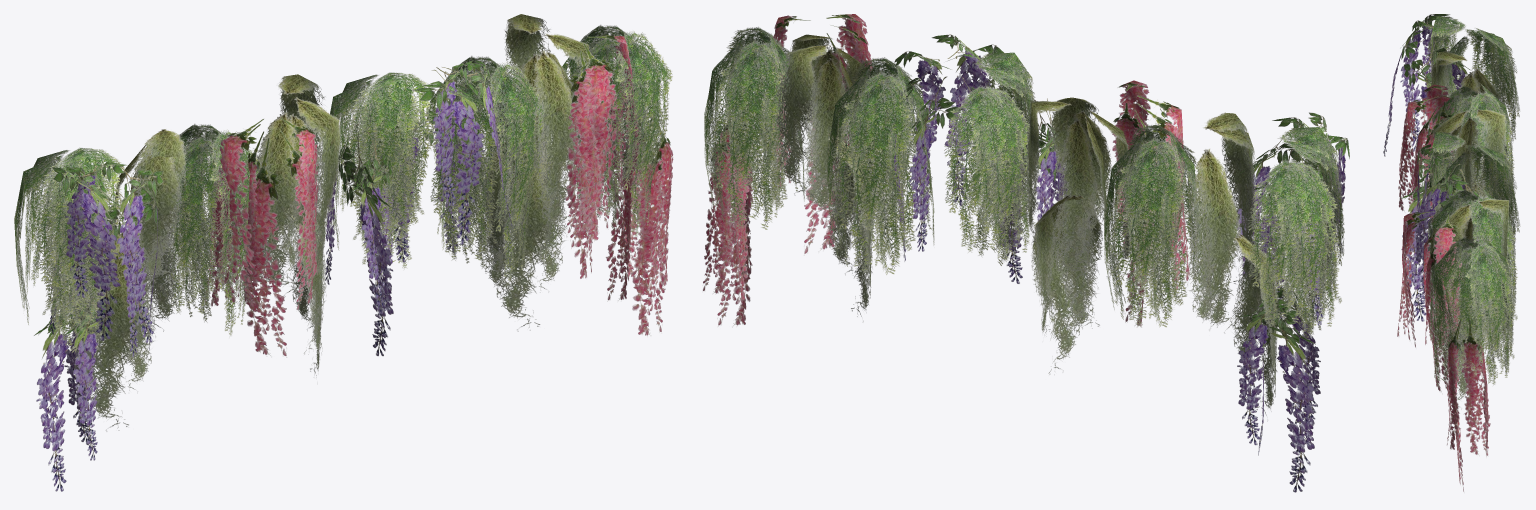
The model's file is hangingplants.glb.
3 views of the same model, side by side, from view 1: azimuth 30°, elevation 25°; view 2: azimuth 150°, elevation 25°; view 3: azimuth 270°, elevation 25° (orthographic). The views are drawn at different scales.
Visible parts, largest first — view 1: Mesh4_rambatan_atas_fullGeometry_daun_rambat_Mat_0, Mesh3_rambatan_atas_fullGeometry_nabi_Mat_0, Mesh1_rambatan_atas_fullGeometry_wispink_Mat_0, Mesh2_rambatan_atas_fullGeometry_wisteria_ungu_Mat_0; view 2: Mesh4_rambatan_atas_fullGeometry_daun_rambat_Mat_0, Mesh3_rambatan_atas_fullGeometry_nabi_Mat_0, Mesh2_rambatan_atas_fullGeometry_wisteria_ungu_Mat_0, Mesh1_rambatan_atas_fullGeometry_wispink_Mat_0; view 3: Mesh4_rambatan_atas_fullGeometry_daun_rambat_Mat_0, Mesh1_rambatan_atas_fullGeometry_wispink_Mat_0, Mesh2_rambatan_atas_fullGeometry_wisteria_ungu_Mat_0, Mesh3_rambatan_atas_fullGeometry_nabi_Mat_0.
Part boxes in pixels (x1,y1,x2,y2): Mesh4_rambatan_atas_fullGeometry_daun_rambat_Mat_0: (14,25,672,352); Mesh3_rambatan_atas_fullGeometry_nabi_Mat_0: (71,14,588,431); Mesh1_rambatan_atas_fullGeometry_wispink_Mat_0: (205,35,673,357); Mesh2_rambatan_atas_fullGeometry_wisteria_ungu_Mat_0: (34,60,512,491); Mesh4_rambatan_atas_fullGeometry_daun_rambat_Mat_0: (704,27,1344,338); Mesh3_rambatan_atas_fullGeometry_nabi_Mat_0: (775,34,1278,415); Mesh2_rambatan_atas_fullGeometry_wisteria_ungu_Mat_0: (893,34,1349,492); Mesh1_rambatan_atas_fullGeometry_wispink_Mat_0: (703,14,1189,327); Mesh4_rambatan_atas_fullGeometry_daun_rambat_Mat_0: (1427,16,1520,385); Mesh1_rambatan_atas_fullGeometry_wispink_Mat_0: (1397,84,1490,491); Mesh2_rambatan_atas_fullGeometry_wisteria_ungu_Mat_0: (1383,14,1480,321); Mesh3_rambatan_atas_fullGeometry_nabi_Mat_0: (1429,51,1508,409).
Bounding box in the file's own units: 1.31 × 0.6892 × 0.3186.
Materials: 4 (4 with a texture image).
